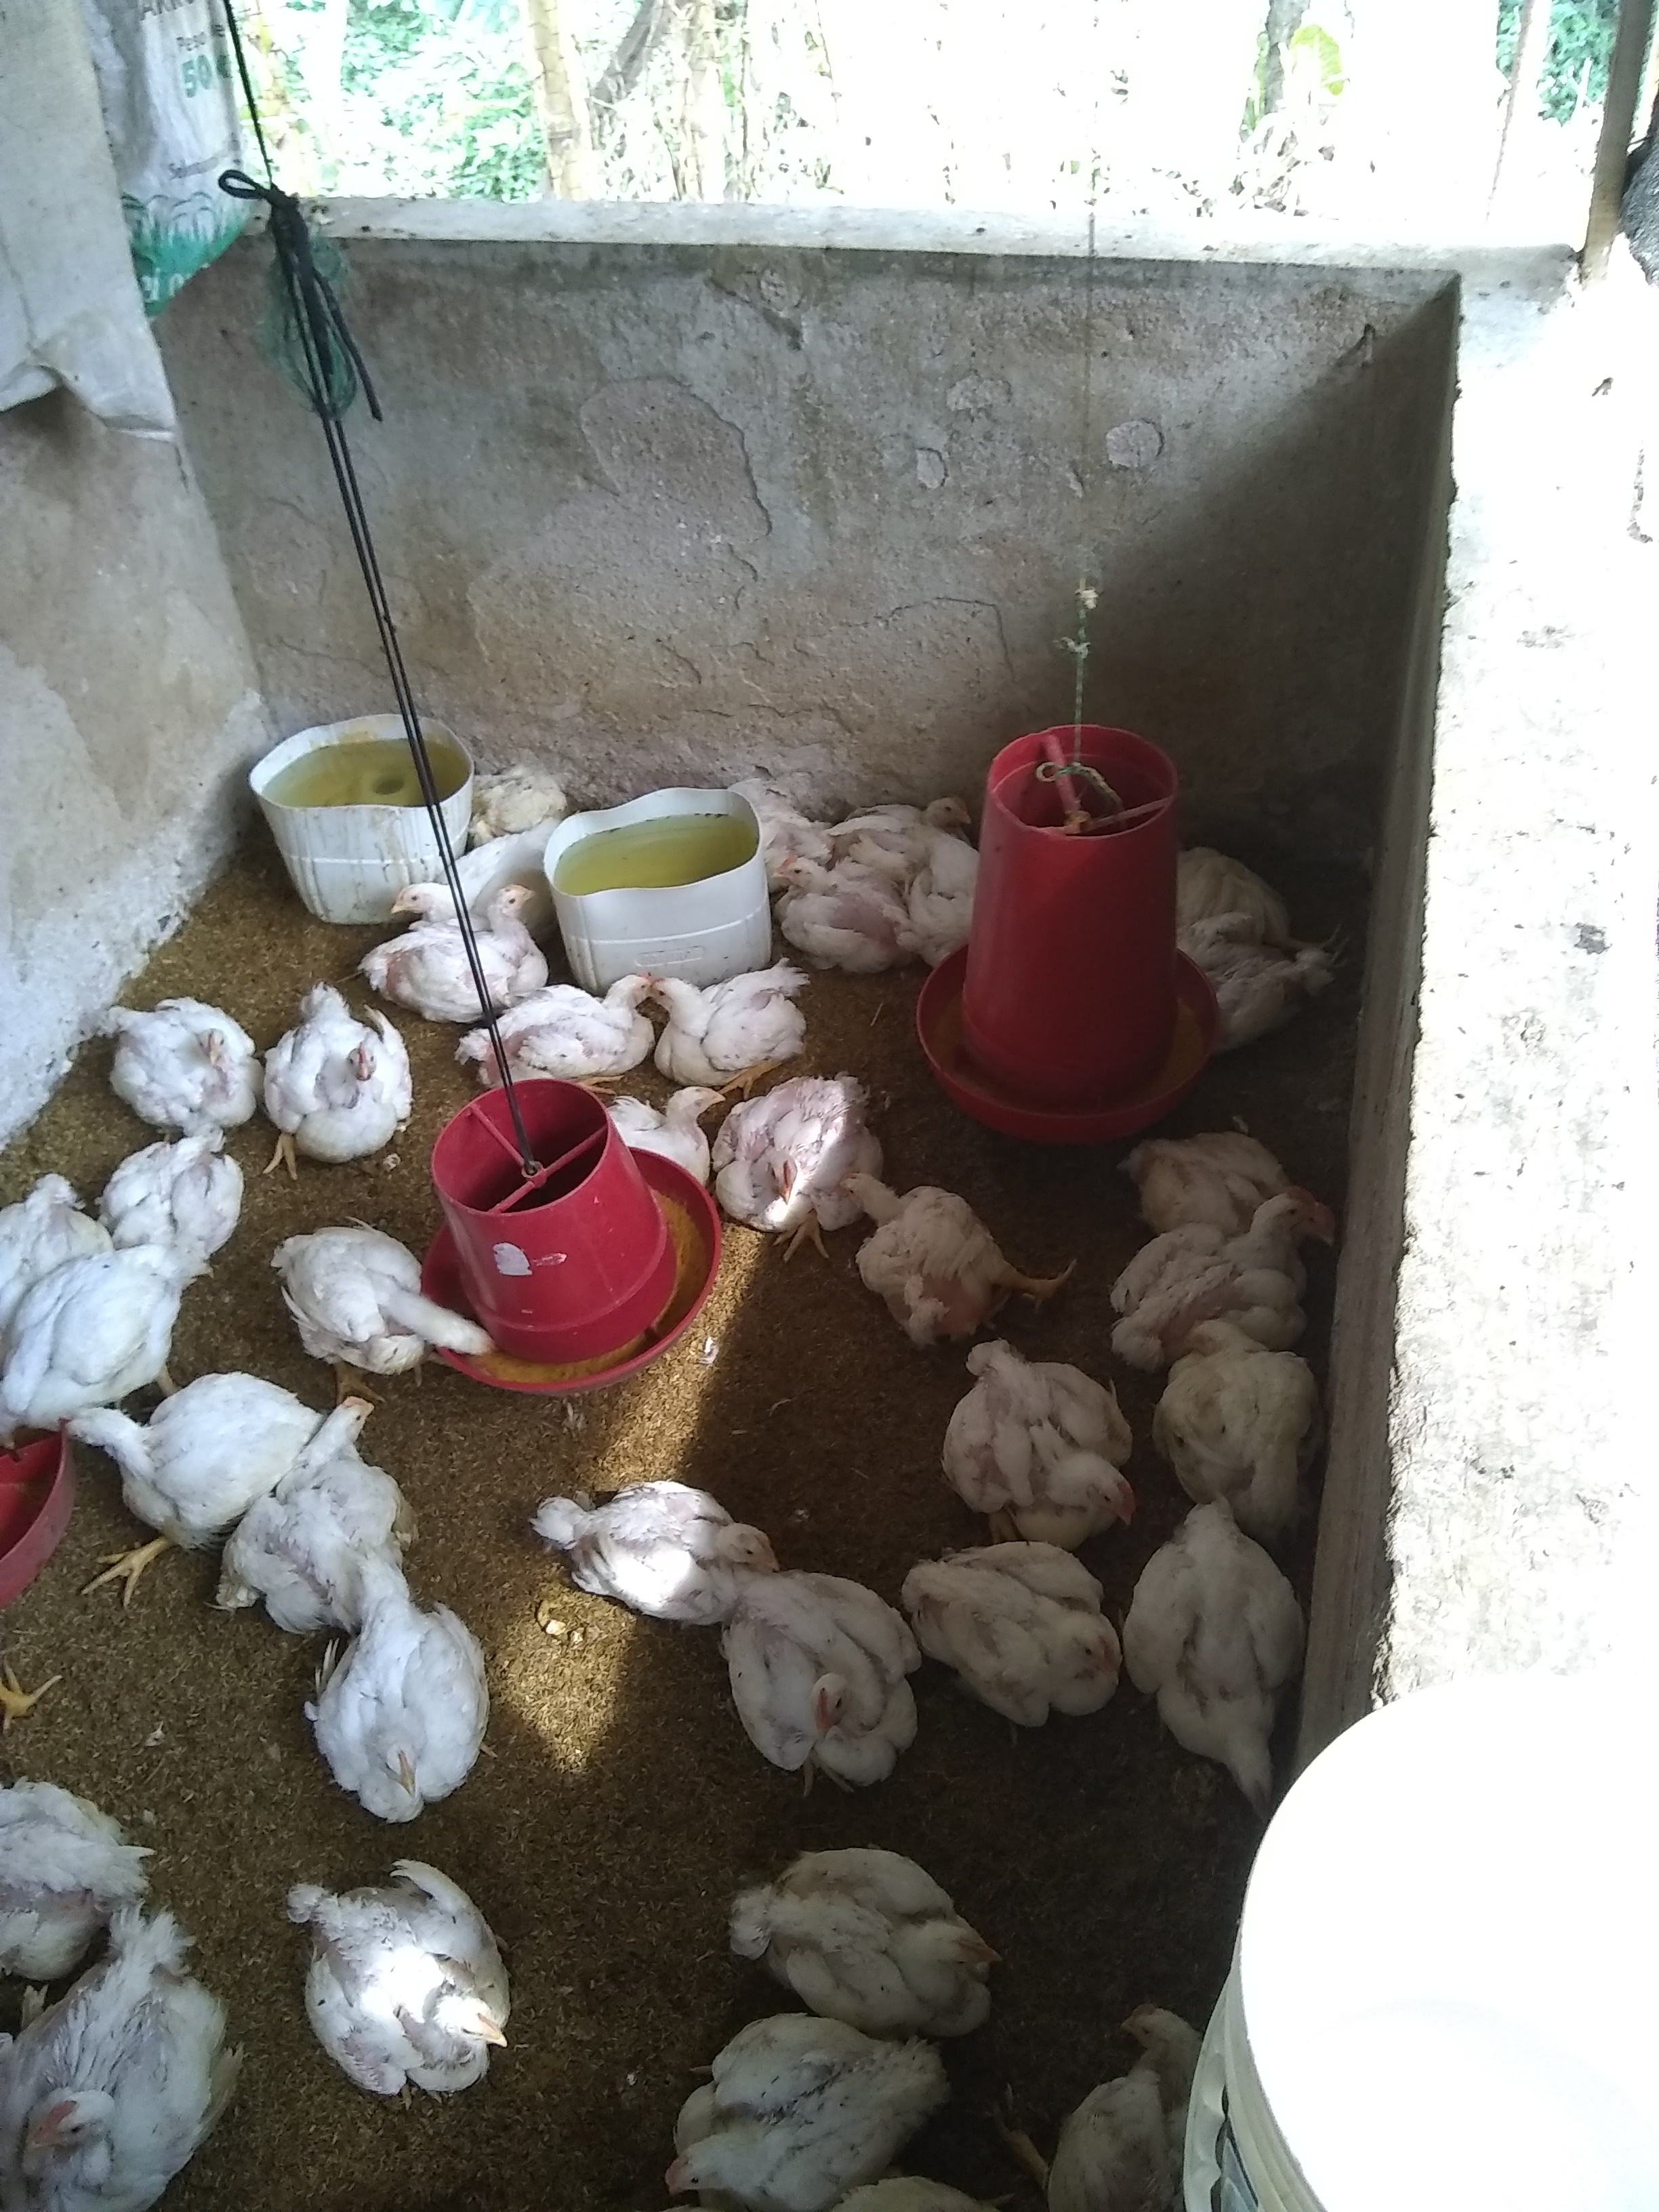Pollos: (0, 1935, 193, 2212), (762, 1843, 997, 2033), (1147, 1547, 1298, 1822), (655, 2031, 890, 2200), (301, 1888, 521, 2062), (336, 1578, 488, 1822), (741, 1588, 904, 1784), (929, 1543, 1127, 1703), (971, 1345, 1138, 1531), (277, 1230, 493, 1369), (1065, 1996, 1208, 2202), (1129, 1190, 1319, 1334), (1164, 1324, 1321, 1498), (579, 1479, 784, 1604), (61, 1393, 246, 1514), (1209, 857, 1345, 1014), (836, 1169, 1004, 1296), (270, 1000, 415, 1143), (270, 1393, 383, 1568), (650, 965, 802, 1071), (721, 1089, 836, 1221), (115, 1005, 253, 1109), (122, 1123, 232, 1252), (532, 975, 645, 1068), (638, 1073, 725, 1172), (774, 848, 870, 937), (467, 876, 540, 954), (880, 792, 971, 846), (387, 873, 460, 934)
